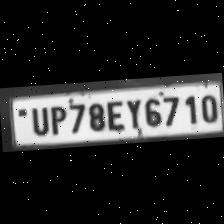0: (196, 91, 218, 124)
1: (178, 91, 198, 126)
6: (138, 94, 162, 129)
7: (64, 100, 86, 134), (160, 92, 180, 128)
8: (84, 98, 104, 132)
E: (104, 97, 124, 132)
P: (46, 102, 67, 136)
U: (26, 104, 50, 136)
Y: (122, 96, 142, 130)
